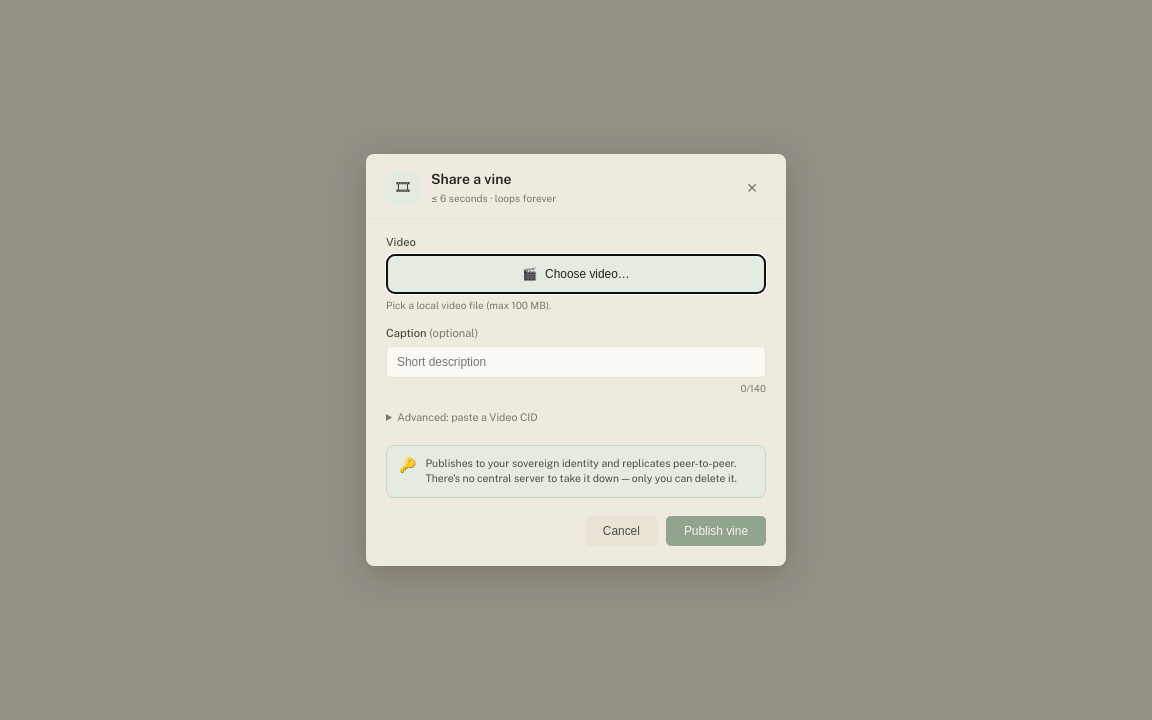
Test: honest ≤6s gate (ZEB-612 S2) › a ≤6s pick shows the honest picked line and enables Publish
The width and height of the screenshot is (1152, 720).
Click the button with test id "choose-video". click: (576, 274)
box: [386, 254, 766, 294]
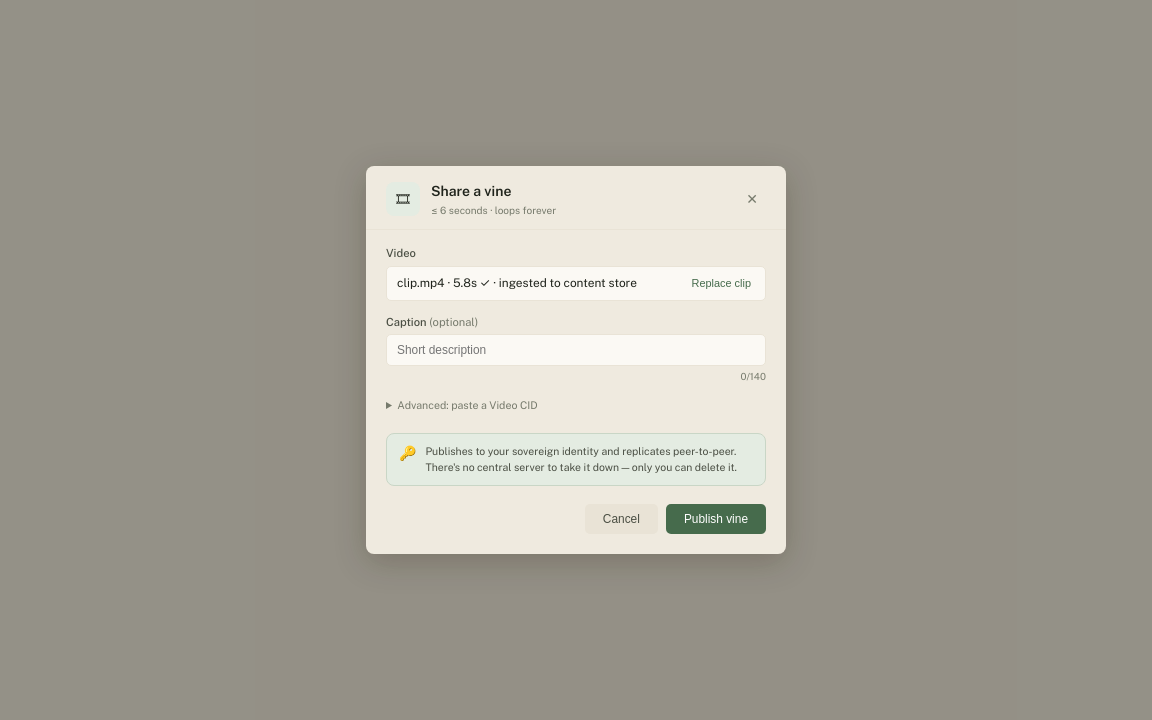
Check: the element with test id "picked-file" shows "clip.mp4 · 5.8s ✓ · ingested to content store", box [397, 276, 637, 290]
Check: the button "Publish vine" is enabled, box [666, 504, 766, 534]
